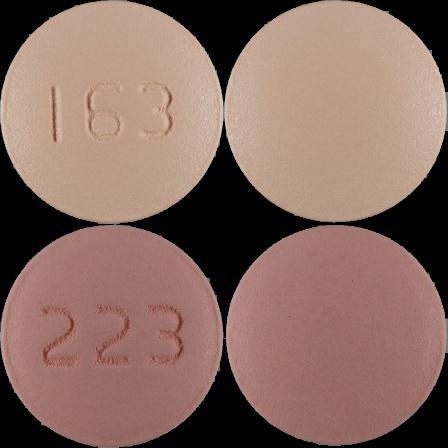50090-1462: (0, 0, 224, 224)
